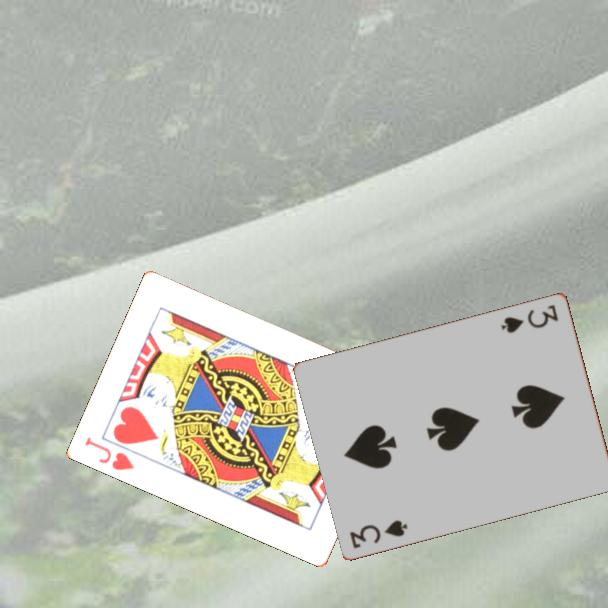h11: (82, 433, 137, 473)
s03: (346, 516, 411, 551), (498, 301, 561, 336)
